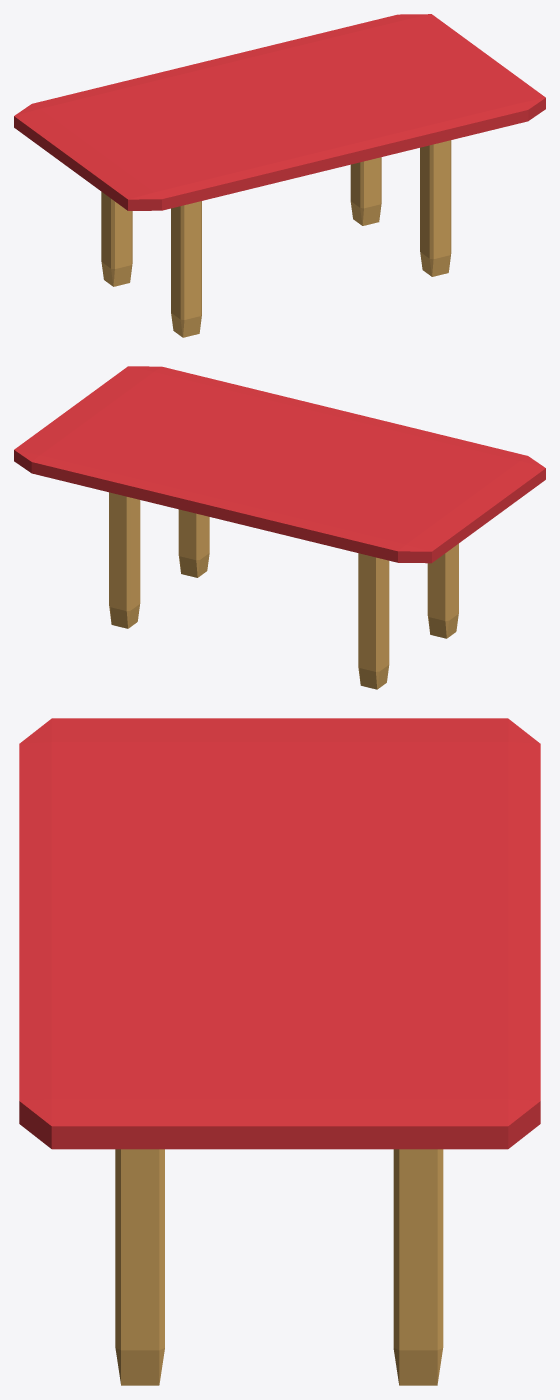
File: table1 1.fbx
3 views of the same model, one above another, from view 1: azimuth 30°, elevation 25°; view 2: azimuth 150°, elevation 25°; view 3: azimuth 270°, elevation 25° (orthographic). The views are drawn at different scales.
Parts seen in each view (by area): view 1: Cube.004; view 2: Cube.004; view 3: Cube.004.
Part boxes in pixels (x1,y1,x2,y2): Cube.004: (14,14,545,337); Cube.004: (14,366,545,689); Cube.004: (19,718,540,1385).
Size of the model in its own units: 2272 by 880 by 1227.
